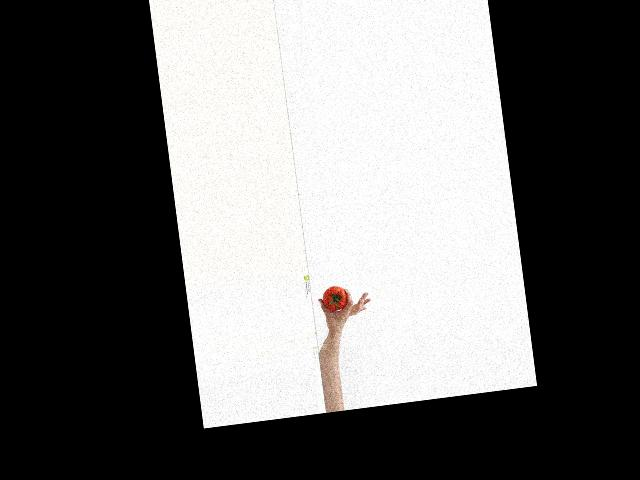tomato: (321, 285, 348, 312)
